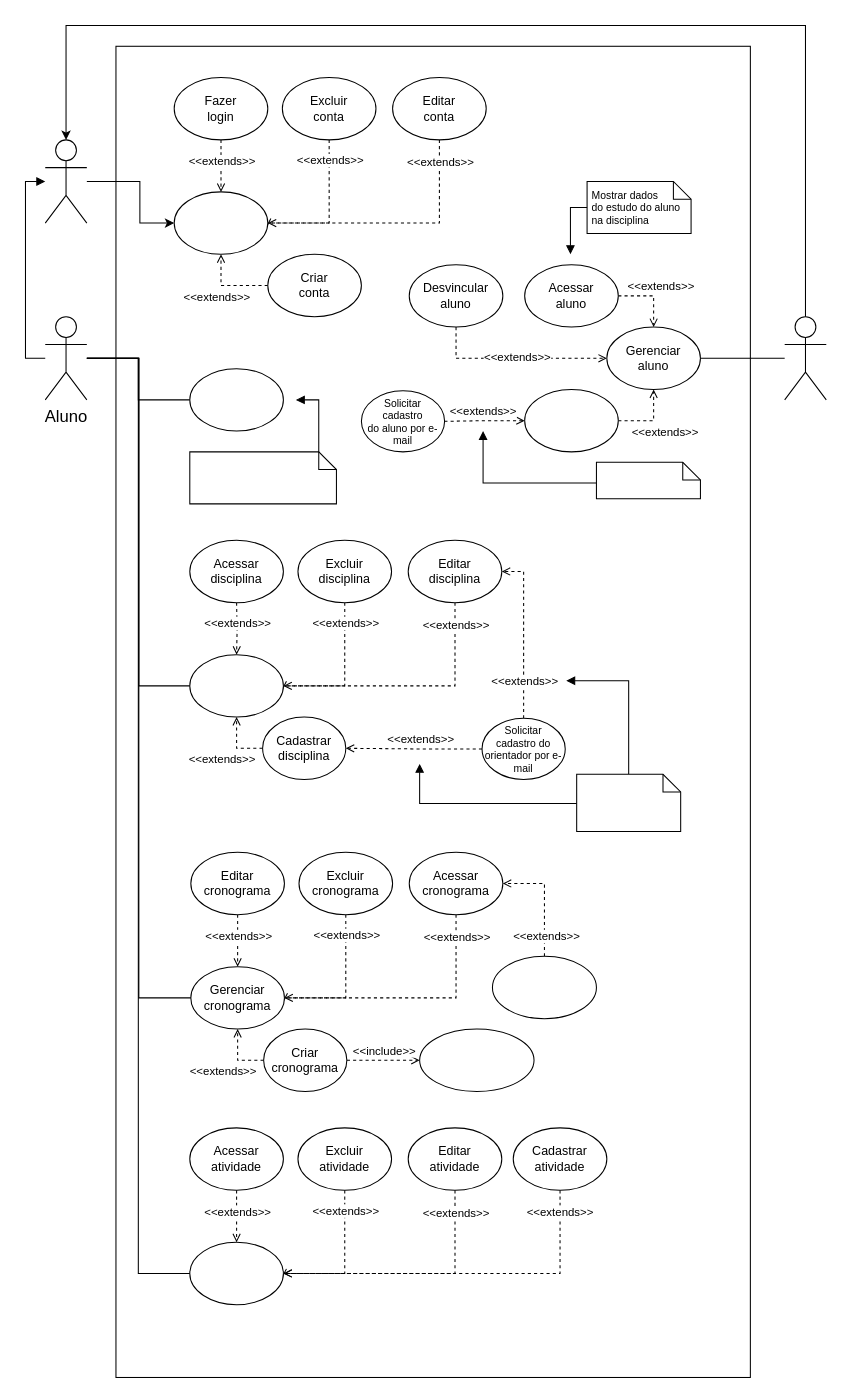
This 863x1396 diagram has some shape labels left out. Each missing label, with the centre of its shape:
"Acessar dados de estudo" goes at point 236,399.
"Cadastrar aluno" goes at point 571,420.
"Definir horários disponíveis" goes at point 476,1059.
"Enviar dúvida para orientador" goes at point 543,987.
"Gerenciar atividade" goes at point 236,1273.
"Gerenciar conta" goes at point 220,222.
"Gerenciar disciplina" goes at point 236,685.
"Orientador" goes at point 805,358.
"Se o aluno não estiver cadastrado" goes at point 647,480.
"Se o orientador da disciplina não estiver cadastrado" goes at point 628,802.
"Tempo gasto por semana e mês; disciplinas mais estudadas; atividades feitas." goes at point 262,477.
"Usuário" goes at point 65,181.
